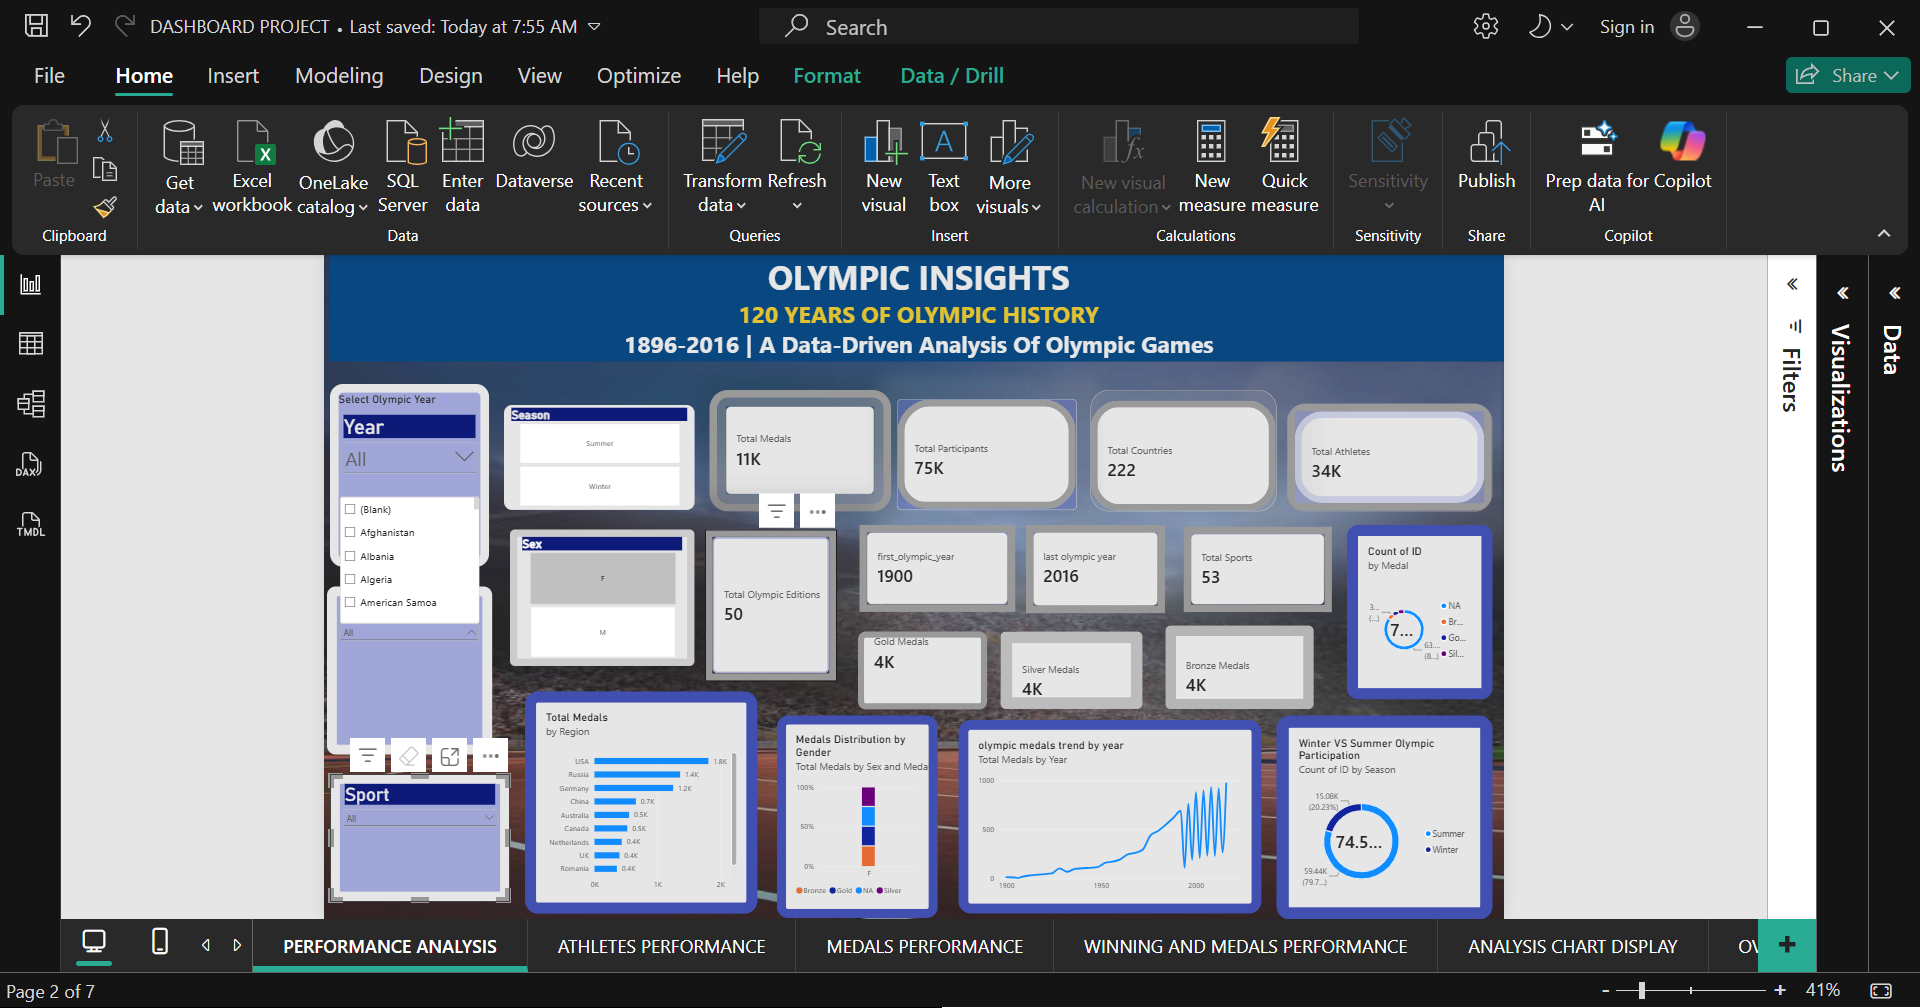

Layout of this report page (visuals, bound fields, positions):
{"tool":"powerbi","page":{"name":"PERFORMANCE ANALYSIS ","canvas":[1920,1080],"ordinal":1},"visuals":[{"type":"cardVisual","fields":{"Data":["athlete_events.Total Medals"]},"box":[627,219.6,295.2,197.6],"z":0},{"type":"cardVisual","fields":{"Data":["athlete_events.Total Athletes"]},"box":[1566.4,241.5,334.3,175.7],"z":1000},{"type":"cardVisual","fields":{"Data":["athlete_events.Total Countries"]},"box":[1246.7,219.6,302.5,197.6],"z":5000},{"type":"cardVisual","fields":{"Data":["athlete_events.Total Sports"]},"box":[1398,441.6,241.5,139.1],"z":6000},{"type":"cardVisual","fields":{"Data":["athlete_events.Total Participants"]},"box":[932,234.2,292.8,180.5],"z":9000},{"type":"cardVisual","fields":{"Data":["athlete_events.Total Olympic Editions"]},"box":[619.7,446.5,214.7,246.4],"z":13000},{"type":"cardVisual","fields":{"Data":["athlete_events.first_olympic_year"]},"box":[871,439.2,253.7,141.5],"z":14000},{"type":"cardVisual","fields":{"Data":["athlete_events.last olympic year"]},"box":[1141.8,439.2,226.9,143.9],"z":31001},{"type":"textbox","box":[9.8,0,1915.3,173.2],"z":31002},{"type":"barChart","fields":{"Category":["noc_regions.Region "],"Y":["athlete_events.Total Medals"]},"box":[326.9,710,378.2,361.1],"z":31003},{"type":"hundredPercentStackedColumnChart","title":"Medals Distribution by Gender","fields":{"Category":["athlete_events.Sex"],"Series":["athlete_events.Medal"],"Y":["athlete_events.Total Medals"]},"box":[736.8,749,261.1,329.4],"z":31004},{"type":"lineChart","title":"olympic medals trend by year ","fields":{"Category":["athlete_events.Year"],"Y":["athlete_events.Total Medals"]},"box":[1032,756.3,492.8,314.7],"z":31005},{"type":"donutChart","title":"Winter VS Summer Olympic Participation ","fields":{"Category":["athlete_events.Season"],"Y":["CountNonNull(athlete_events.ID)"]},"box":[1549.3,749,351.3,331.8],"z":31006},{"type":"donutChart","fields":{"Category":["athlete_events.Medal"],"Y":["CountNonNull(athlete_events.ID)"]},"box":[1664,439.2,236.7,283],"z":31007},{"type":"slicer","title":"Select Olympic Year ","fields":{"Values":["athlete_events.Year"]},"box":[9.8,209.8,258.6,297.7],"z":31008},{"type":"slicer","fields":{"Values":["noc_regions.Region "]},"box":[4.9,539.2,268.4,273.3],"z":31009},{"type":"slicer","fields":{"Values":["athlete_events.Season"]},"box":[292.8,244,309.9,170.8],"z":31010},{"type":"slicer","fields":{"Values":["athlete_events.Sex"]},"box":[302.5,446.5,300.1,222],"z":31011},{"type":"slicer","fields":{"Values":["athlete_events.Sport"]},"box":[9.8,844.2,292.8,207.4],"z":31012},{"type":"cardVisual","fields":{"Data":["athlete_events.Gold Medals"]},"box":[868.6,612.4,209.8,126.9],"z":31013},{"type":"cardVisual","fields":{"Data":["athlete_events.Silver Medals"]},"box":[1100.4,612.4,231.8,126.9],"z":31014},{"type":"cardVisual","fields":{"Data":["athlete_events.Bronze  Medals"]},"box":[1368.7,602.6,241.5,136.6],"z":31015}]}

Visuals, with their boxes on the page's 1920x1080 design canvas (x1, y1, x2, y2). These are canvas units, not pixel positions in the 1920x1008 screenshot, which may show the page scaled, cropped or inside an application window:
cardVisual - athlete_events.Total Medals: x1=627 y1=220 x2=922 y2=417
cardVisual - athlete_events.Total Athletes: x1=1566 y1=242 x2=1901 y2=417
cardVisual - athlete_events.Total Countries: x1=1247 y1=220 x2=1549 y2=417
cardVisual - athlete_events.Total Sports: x1=1398 y1=442 x2=1640 y2=581
cardVisual - athlete_events.Total Participants: x1=932 y1=234 x2=1225 y2=415
cardVisual - athlete_events.Total Olympic Editions: x1=620 y1=446 x2=834 y2=693
cardVisual - athlete_events.first_olympic_year: x1=871 y1=439 x2=1125 y2=581
cardVisual - athlete_events.last olympic year: x1=1142 y1=439 x2=1369 y2=583
textbox: x1=10 y1=0 x2=1925 y2=173
barChart - noc_regions.Region  x athlete_events.Total Medals: x1=327 y1=710 x2=705 y2=1071
"Medals Distribution by Gender" hundredPercentStackedColumnChart: x1=737 y1=749 x2=998 y2=1078
"olympic medals trend by year " lineChart: x1=1032 y1=756 x2=1525 y2=1071
"Winter VS Summer Olympic Participation " donutChart: x1=1549 y1=749 x2=1901 y2=1081
donutChart - athlete_events.Medal x CountNonNull(athlete_events.ID): x1=1664 y1=439 x2=1901 y2=722
"Select Olympic Year " slicer: x1=10 y1=210 x2=268 y2=508
slicer - noc_regions.Region : x1=5 y1=539 x2=273 y2=812
slicer - athlete_events.Season: x1=293 y1=244 x2=603 y2=415
slicer - athlete_events.Sex: x1=302 y1=446 x2=603 y2=668
slicer - athlete_events.Sport: x1=10 y1=844 x2=303 y2=1052
cardVisual - athlete_events.Gold Medals: x1=869 y1=612 x2=1078 y2=739
cardVisual - athlete_events.Silver Medals: x1=1100 y1=612 x2=1332 y2=739
cardVisual - athlete_events.Bronze  Medals: x1=1369 y1=603 x2=1610 y2=739
